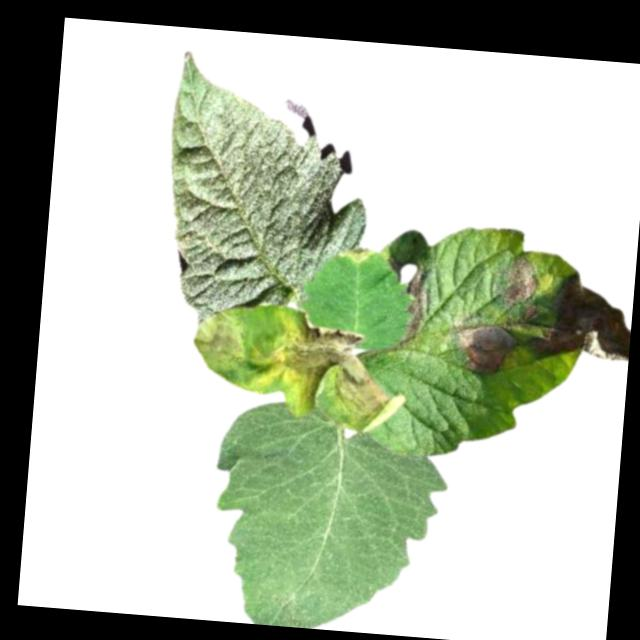Late_blight: (269, 322, 410, 435), (524, 265, 635, 365), (443, 318, 518, 376), (189, 308, 249, 370), (391, 262, 428, 347), (500, 249, 541, 306), (335, 246, 373, 263)
healthy: (156, 49, 380, 321), (203, 398, 449, 638)
